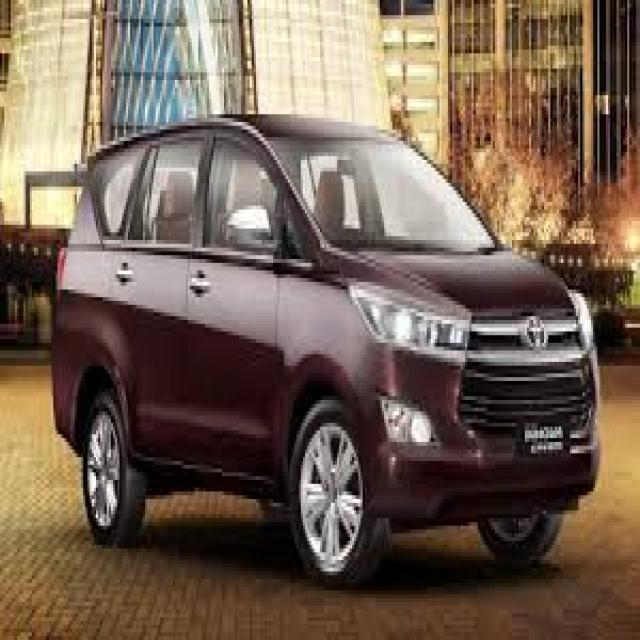light_vehicle: (51, 113, 602, 590)
